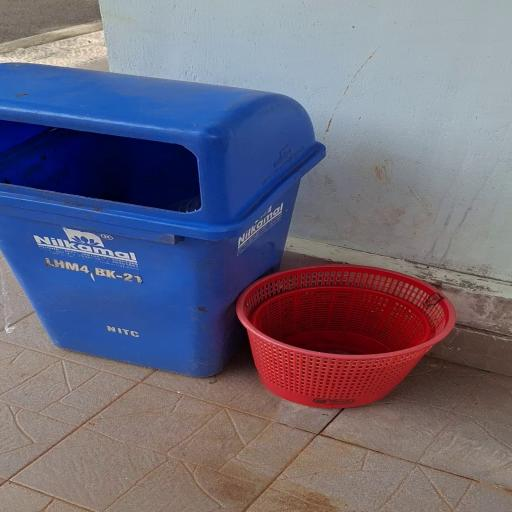Nilkamal-dustbin-detection: (0, 64, 324, 376)
